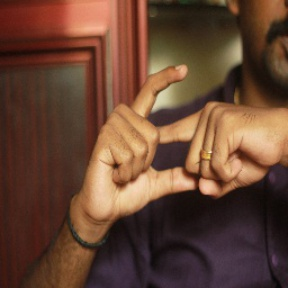E: (119, 63, 225, 201)
